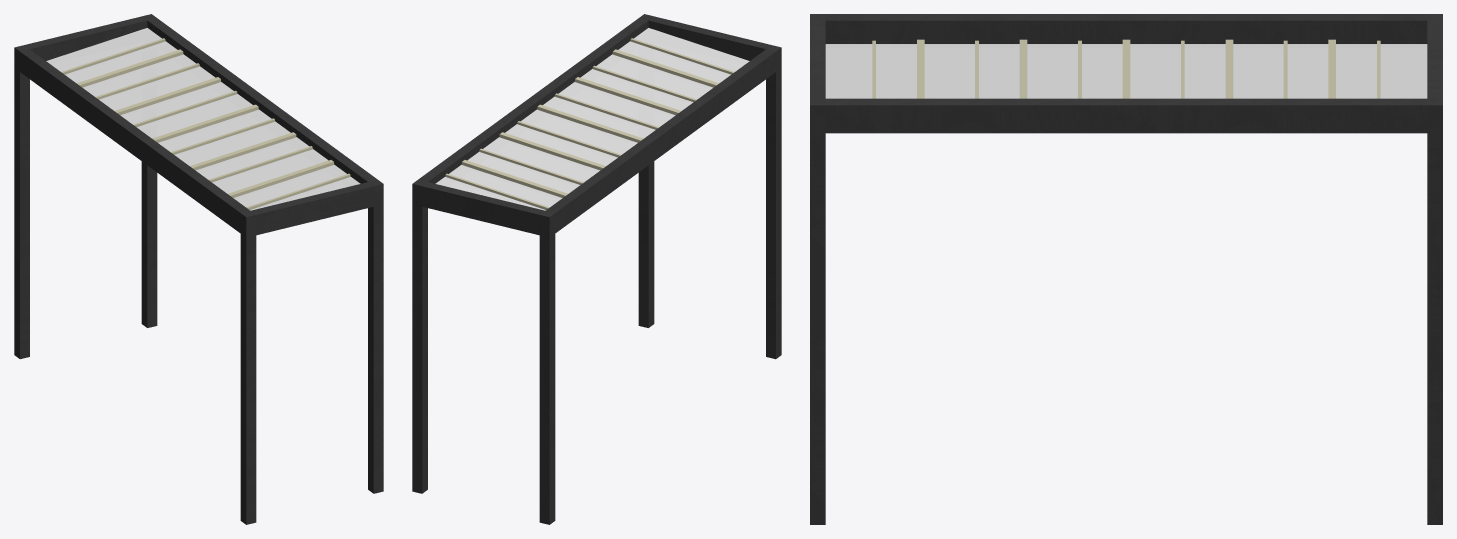
The model's file is hyr-single_h30-w13-l40_matblack.fbx.
3 views of the same model, side by side, from view 1: azimuth 30°, elevation 25°; view 2: azimuth 150°, elevation 25°; view 3: azimuth 270°, elevation 25° (orthographic). The views are drawn at different scales.
Visible parts, largest first — view 1: hyr-single_h30-w13-l40_matblack; view 2: hyr-single_h30-w13-l40_matblack; view 3: hyr-single_h30-w13-l40_matblack.
Boxes of the visible parts, <box> form: hyr-single_h30-w13-l40_matblack: <box>14,14,383,524</box>; hyr-single_h30-w13-l40_matblack: <box>412,14,781,524</box>; hyr-single_h30-w13-l40_matblack: <box>810,14,1442,524</box>.
Bounding box in the file's own units: 140 × 300 × 410.
Materials: 3 (2 with a texture image).
